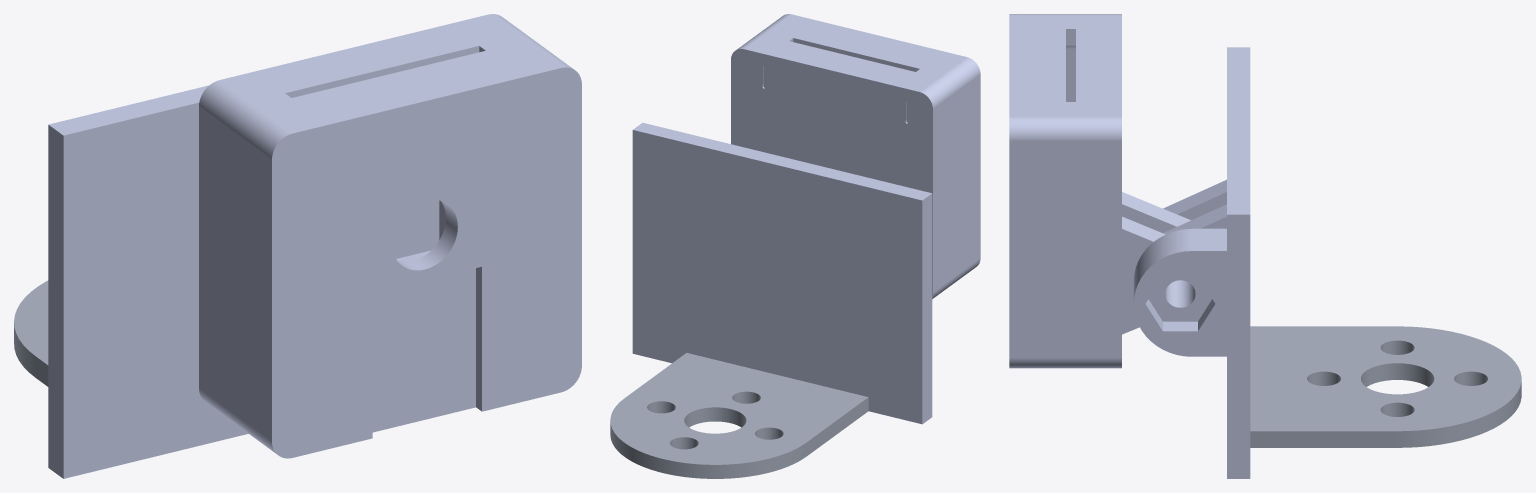
File: GR2_Cam_Mount.dae
3 views of the same model, side by side, from view 1: azimuth 30°, elevation 25°; view 2: azimuth 150°, elevation 25°; view 3: azimuth 270°, elevation 25° (orthographic). The views are drawn at different scales.
Visible parts, largest first — view 1: Part 1 (×3); view 2: Part 1 (×3); view 3: Part 1 (×3).
Boxes of the visible parts, box(x1,y1,x2,y2) form: Part 1 (×3): box(14, 14, 581, 478); Part 1 (×3): box(610, 14, 980, 478); Part 1 (×3): box(1009, 14, 1521, 478).
Size of the model in its own units: 0.043 by 0.0557 by 0.0395.
